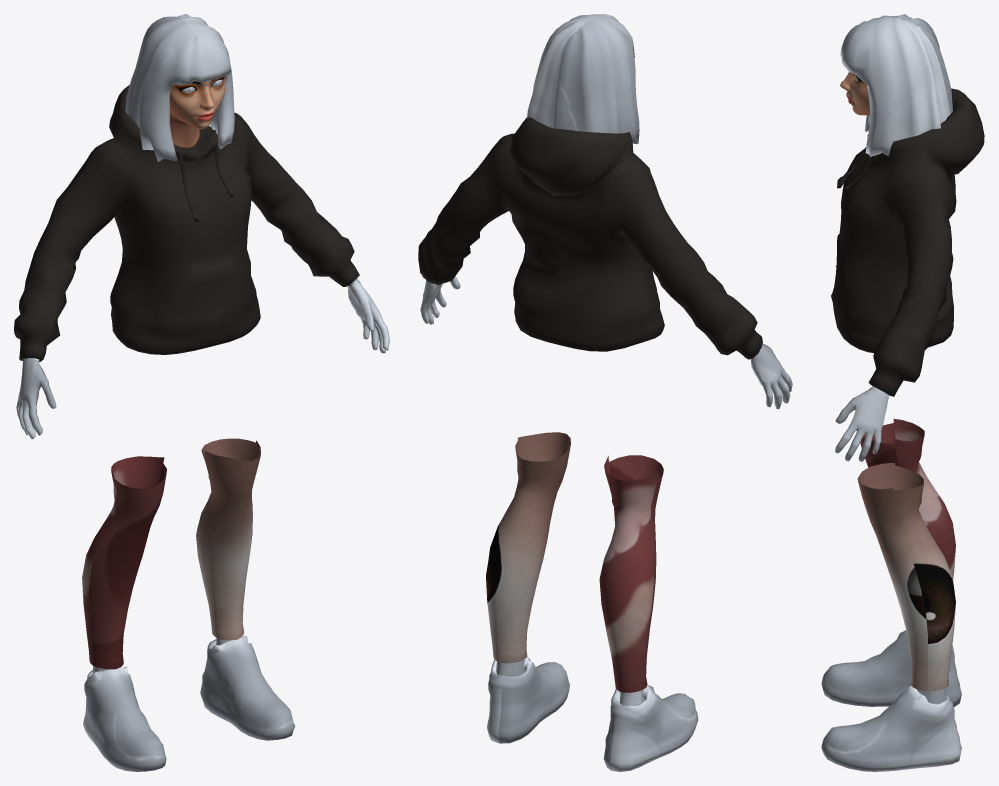
Rendered from avatar-corpo - 02.fbx.
3 views of the same model, side by side, from view 1: azimuth 30°, elevation 25°; view 2: azimuth 150°, elevation 25°; view 3: azimuth 270°, elevation 25° (orthographic).
Parts seen in each view (by area): view 1: Wolf3D_Avatar; view 2: Wolf3D_Avatar; view 3: Wolf3D_Avatar.
Part boxes in pixels (x1,y1,x2,y2): Wolf3D_Avatar: (14,14,389,771); Wolf3D_Avatar: (418,14,792,771); Wolf3D_Avatar: (821,14,984,771).
Size of the model in its own units: 92.79 by 176 by 36.38.
Materials: 1 (1 with a texture image).
